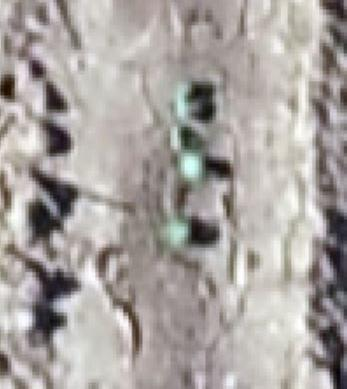cotton: (166, 217, 189, 244), (184, 153, 204, 178), (178, 85, 190, 112)
